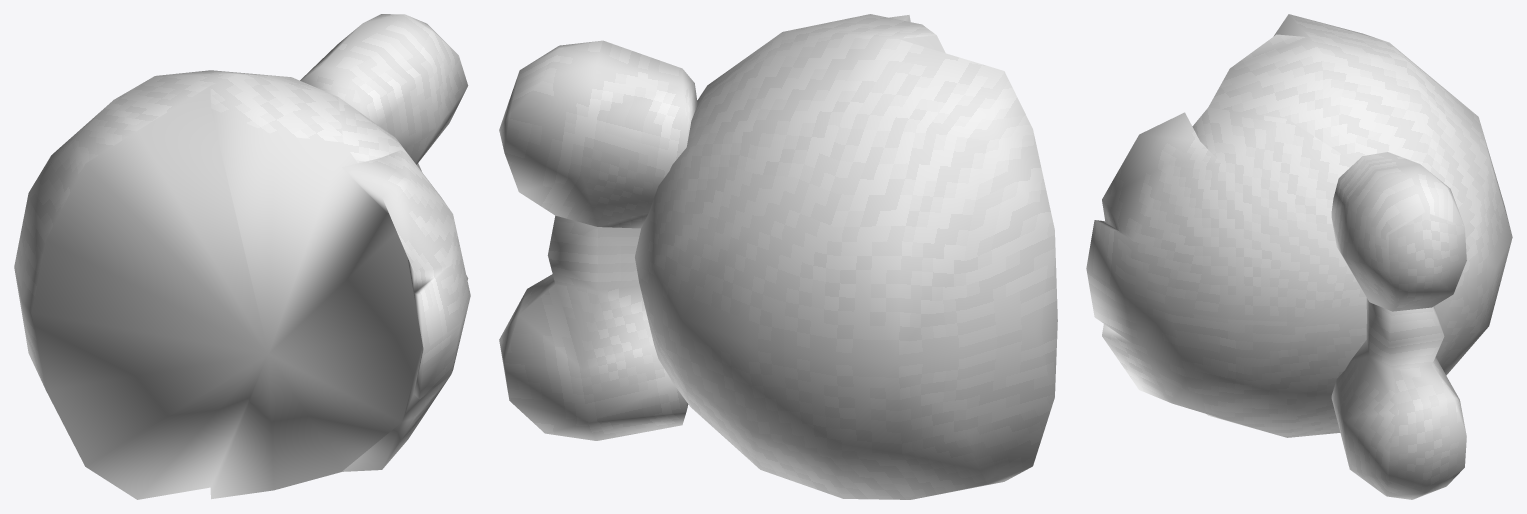
The model's file is hlmt_wig_ribbon.dae.
3 views of the same model, side by side, from view 1: azimuth 30°, elevation 25°; view 2: azimuth 150°, elevation 25°; view 3: azimuth 270°, elevation 25° (orthographic). The views are drawn at different scales.
Visible parts, largest first — view 1: hlmt_wig_ribbon; view 2: hlmt_wig_ribbon; view 3: hlmt_wig_ribbon.
Part boxes in pixels (x1,y1,x2,y2): hlmt_wig_ribbon: (14, 14, 470, 499); hlmt_wig_ribbon: (499, 14, 1057, 499); hlmt_wig_ribbon: (1086, 14, 1512, 499).
Bounding box in the file's own units: 26.22 × 21.82 × 22.38.
Materials: 1 (1 with a texture image).
